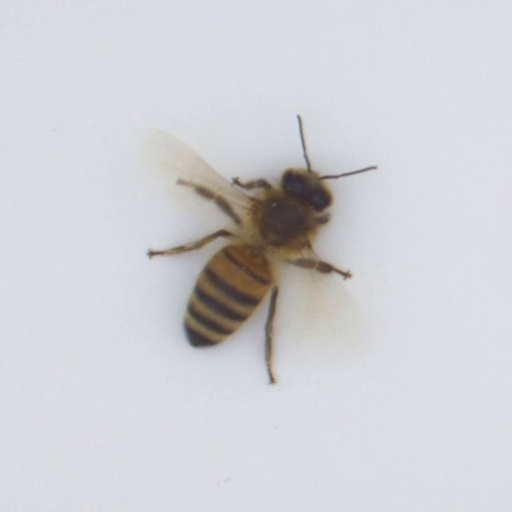Bee: (169, 168, 329, 352)
Thorax: (253, 194, 311, 253)
